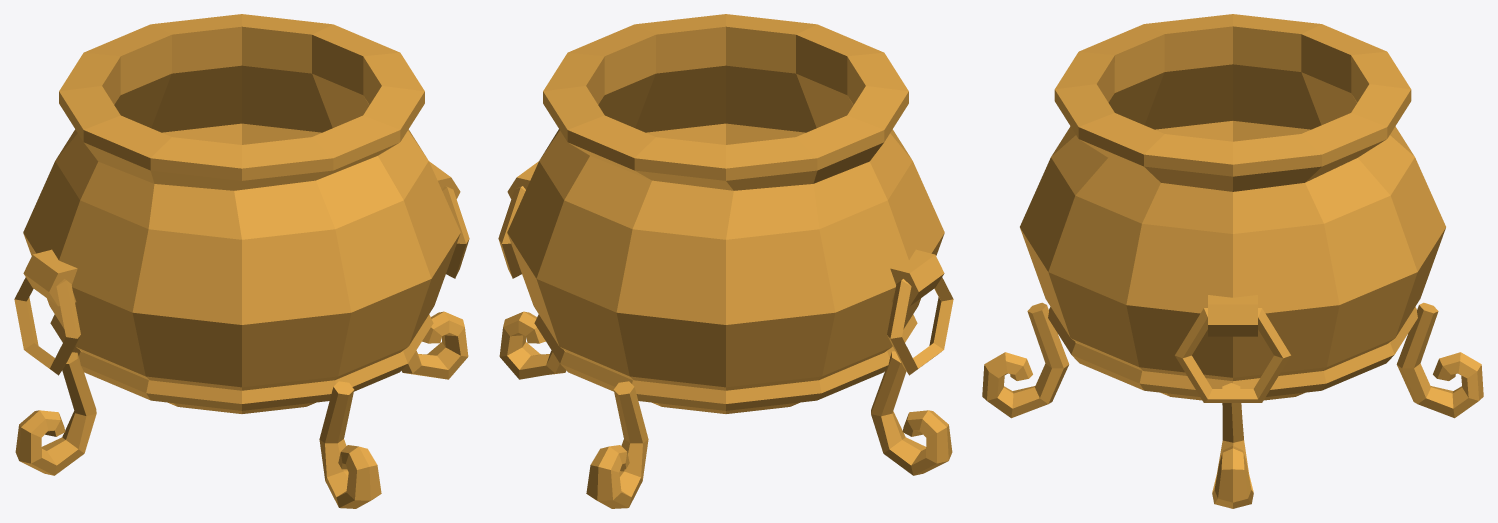
Rendered from cauldron-potion-empty.fbx.
The picture shows the model from 3 angles, left to right: view 1: azimuth 30°, elevation 25°; view 2: azimuth 150°, elevation 25°; view 3: azimuth 270°, elevation 25°; orthographic projection. The views are drawn at different scales.
Parts seen in each view (by area): view 1: cauldron-potion-empty; view 2: cauldron-potion-empty; view 3: cauldron-potion-empty.
Boxes of the visible parts, x1,y1,x2,y2 form: cauldron-potion-empty: [14, 14, 469, 508]; cauldron-potion-empty: [498, 14, 953, 508]; cauldron-potion-empty: [982, 14, 1483, 508].
Size of the model in its own units: 0.7944 by 0.5784 by 0.7944.
